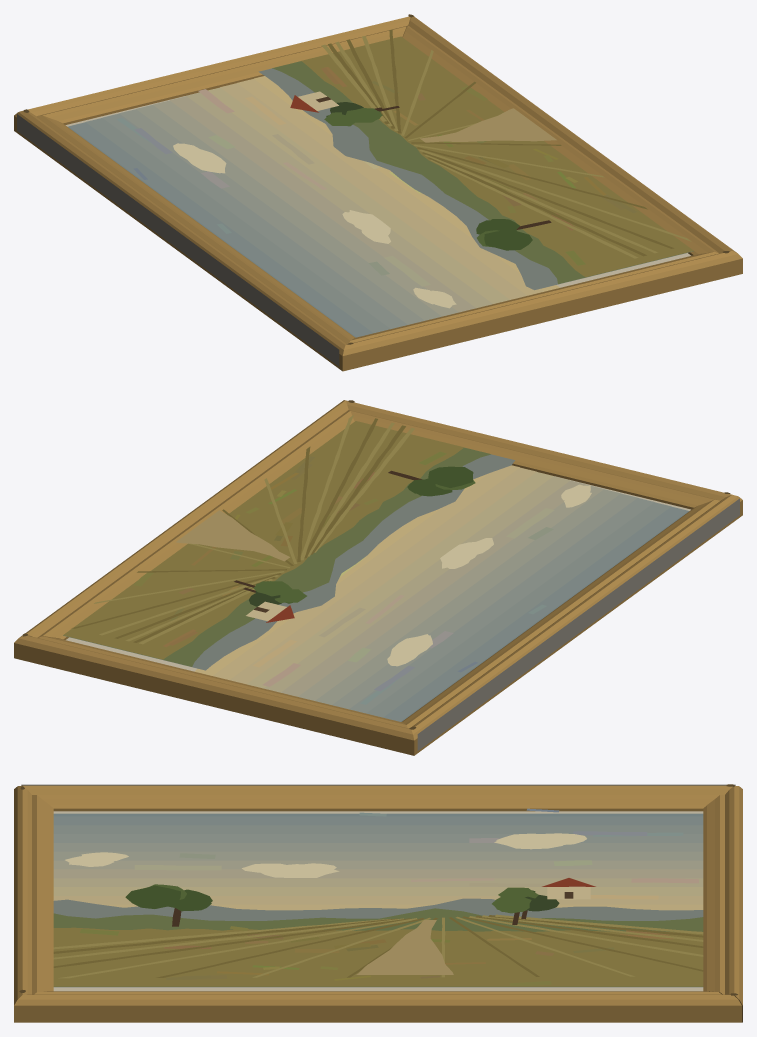
File: painting_floor.glb
3 views of the same model, one above another, from view 1: azimuth 30°, elevation 25°; view 2: azimuth 150°, elevation 25°; view 3: azimuth 270°, elevation 25° (orthographic). The views are drawn at different scales.
Visible parts, largest first — view 1: bild; view 2: bild; view 3: bild.
Part boxes in pixels (box(x1,y1,x2,y2)): bild: box(14, 14, 742, 371); bild: box(14, 400, 742, 755); bild: box(14, 784, 742, 1022).
Bounding box in the file's own units: 0.7104 × 0.0548 × 1.01.
